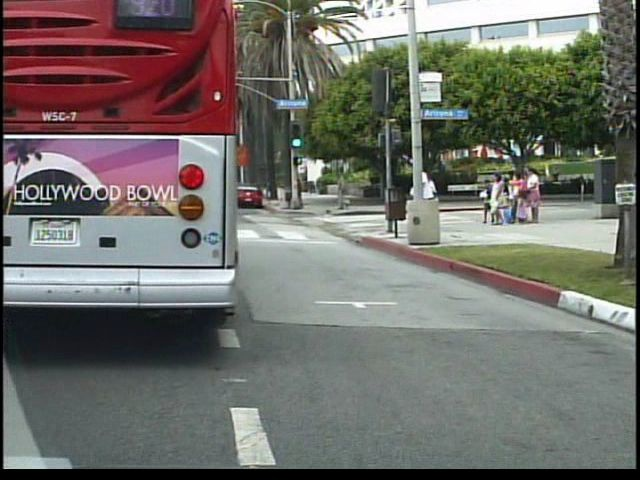person: (407, 160, 435, 240), (420, 170, 444, 233), (336, 169, 356, 213)
